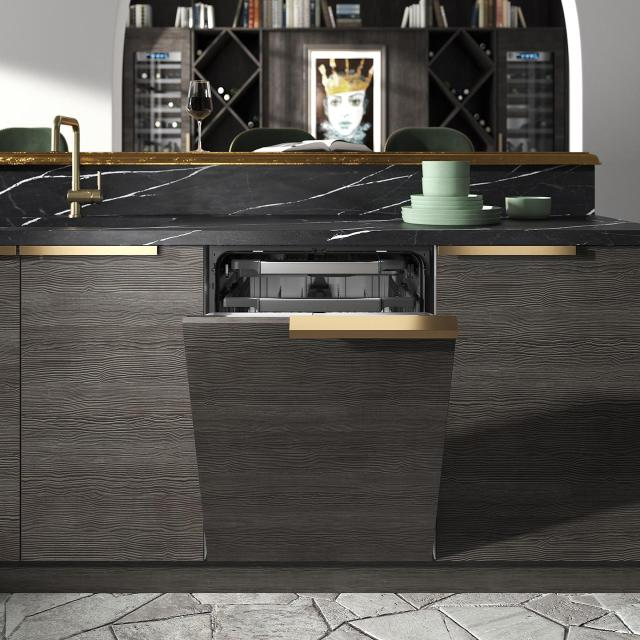dishwasher: (186, 244, 445, 569)
